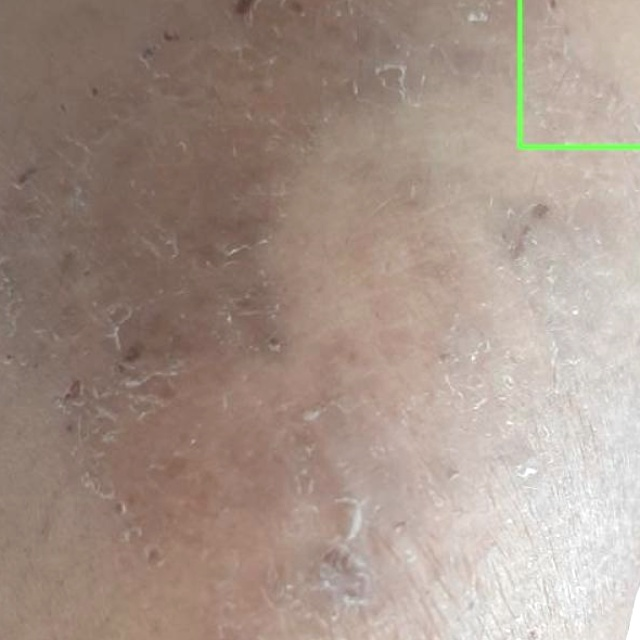Tinea Corporis: (519, 0, 639, 147)
